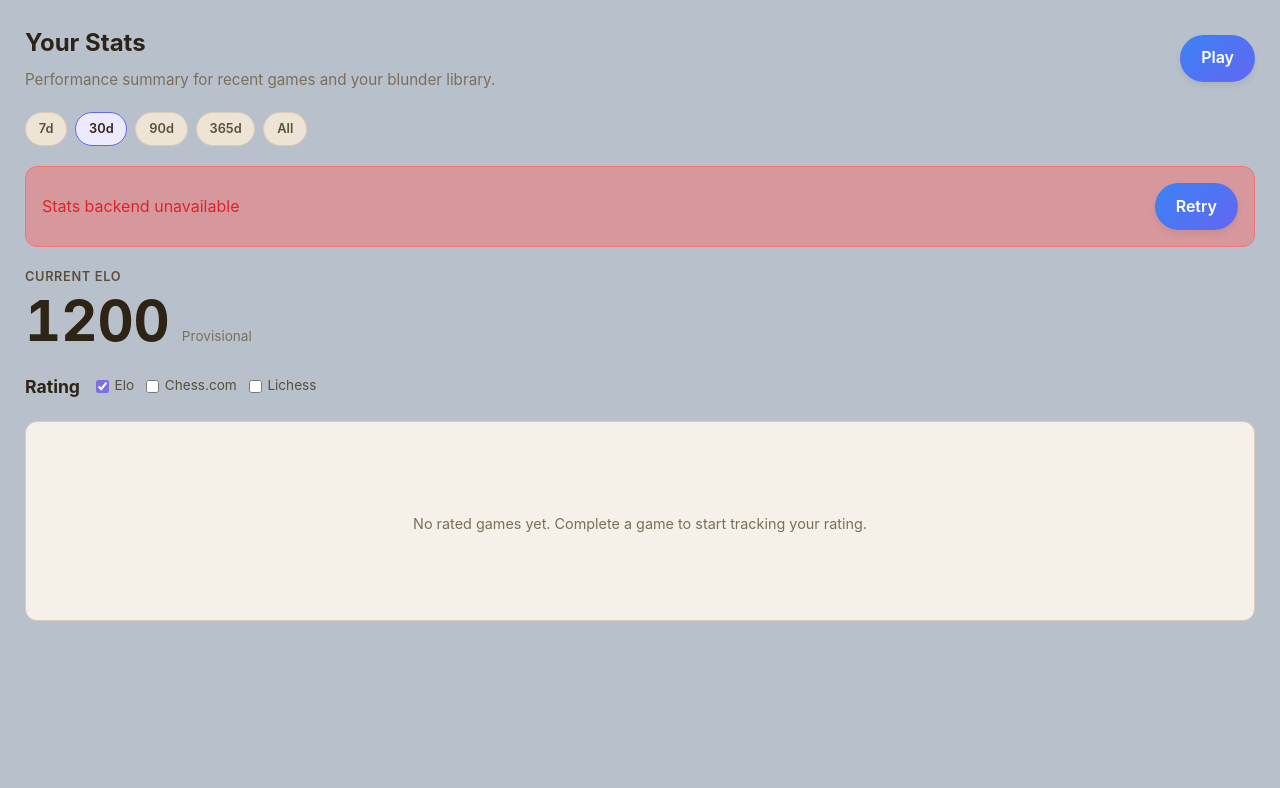
Scenario: StatsPage › shows fetch failure and retries successfully
The width and height of the screenshot is (1280, 788).
Expected: the text "Stats backend unavailable" is shown, [42,194,240,219]
Click the button "Retry" at (1196, 206), box [1155,183,1238,230]
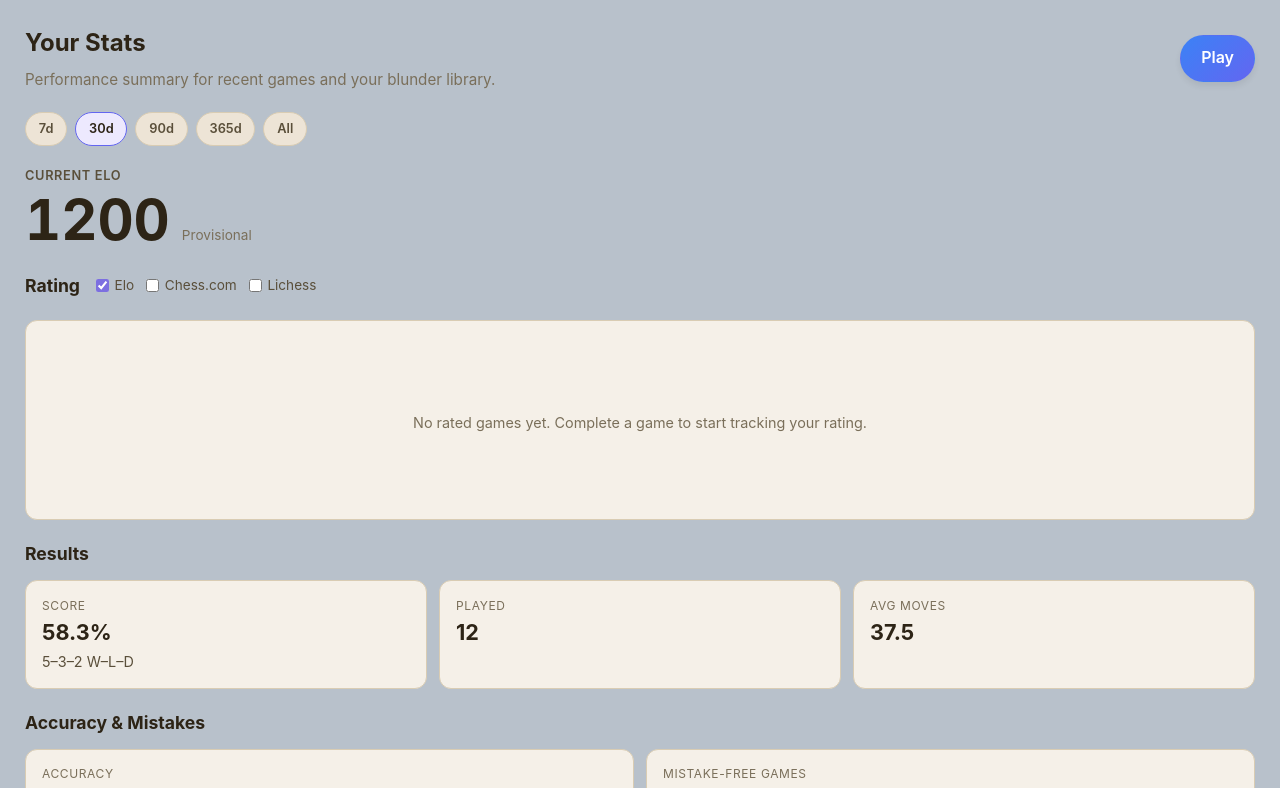
Expected: the heading "Results" is shown, [25,543,89,564]
